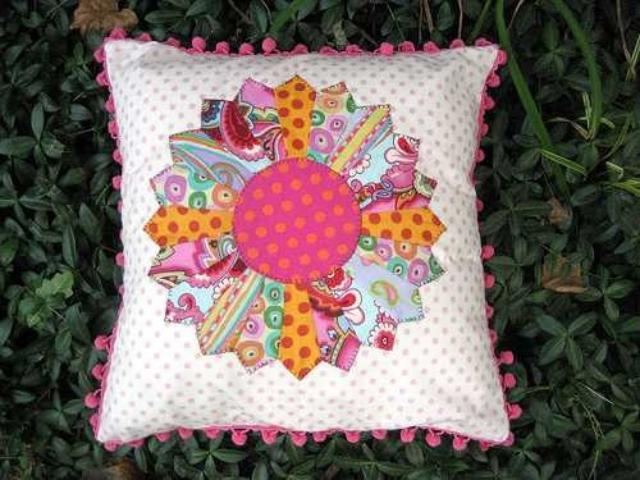pillow: (90, 35, 512, 451)
